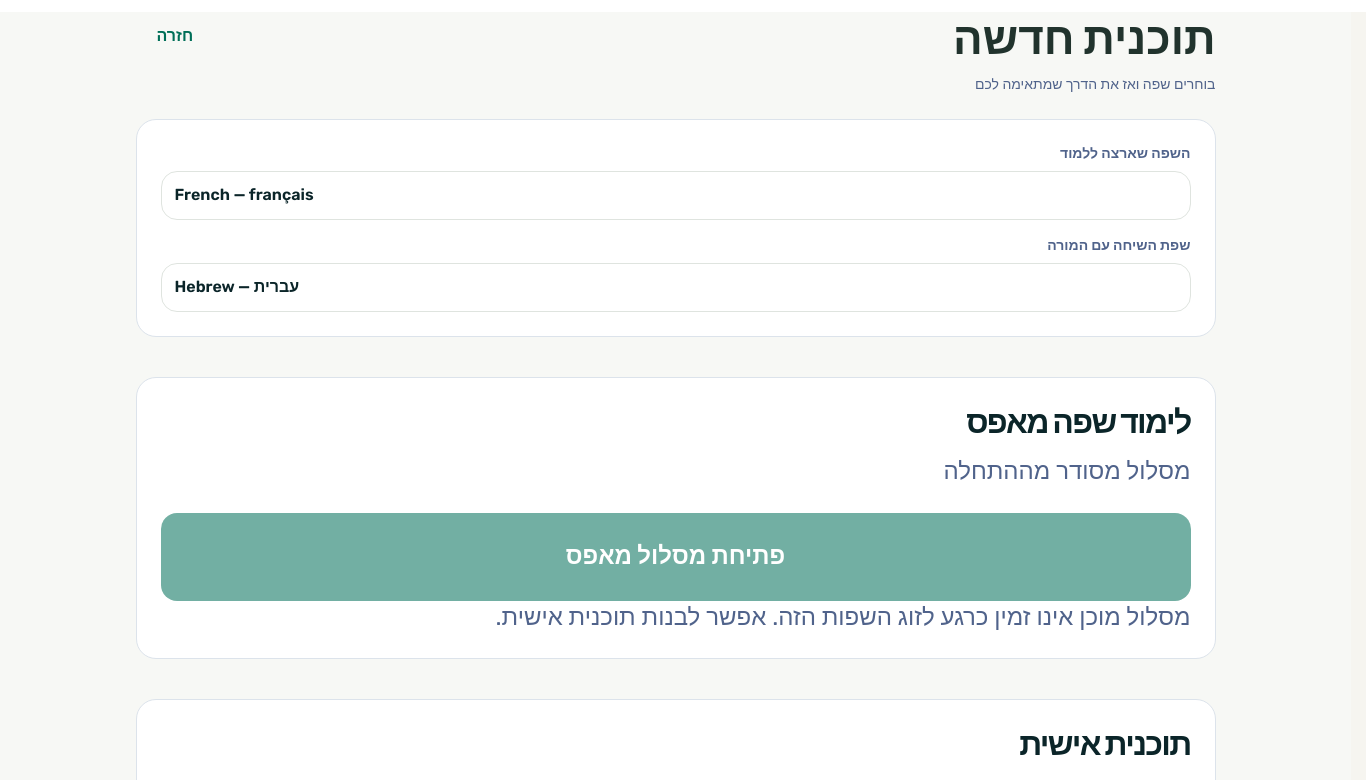
Test: program chooser DEV design=false › checks the newly selected pair instead of the saved profile pair
Expected: the text "מסלול מוכן אינו זמין כרגע לזוג השפות הזה. אפשר לבנות תוכנית אישית." is shown, [496,603,1190,631]
Focus the dropdown labelled "השפה שארצה ללמוד" at (676,195), box [160,171,1190,220]
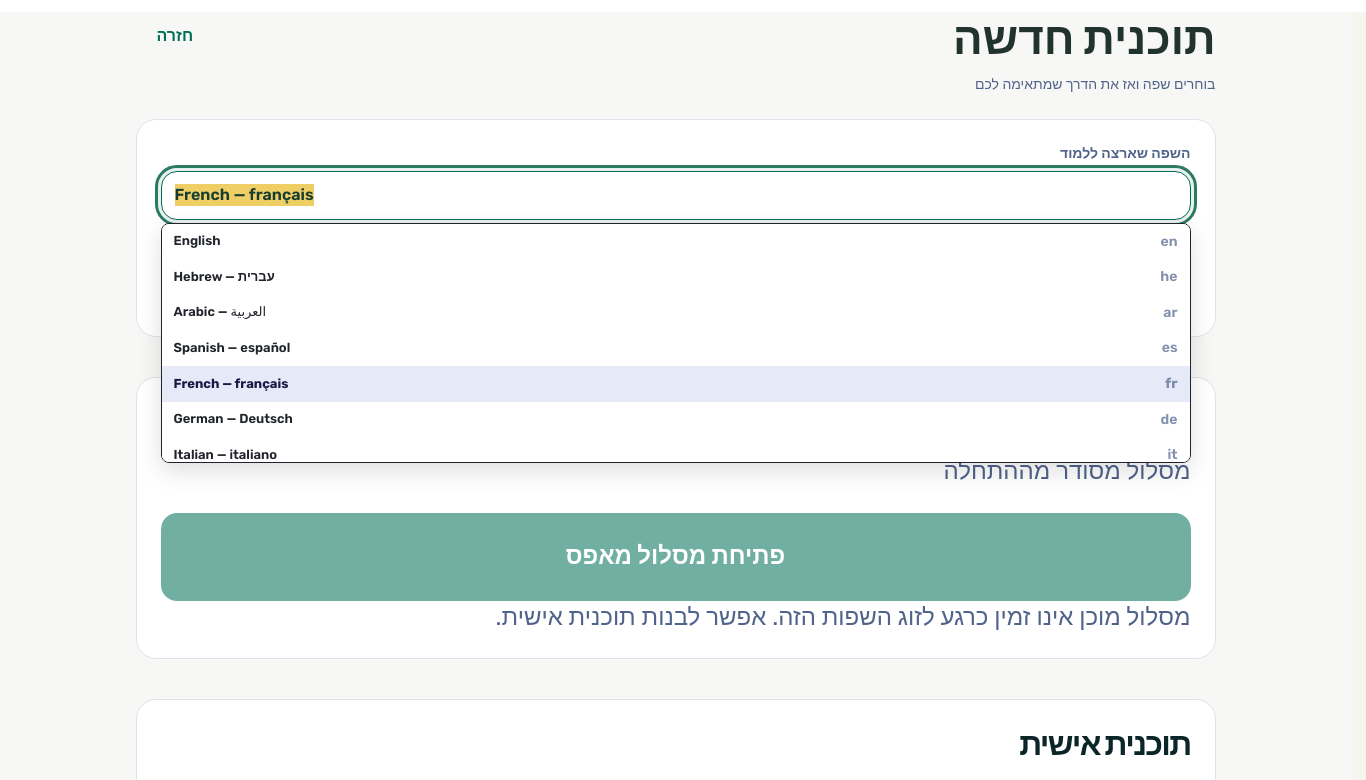
Click the option "English en" at (197,241), box [174,233,1178,250]
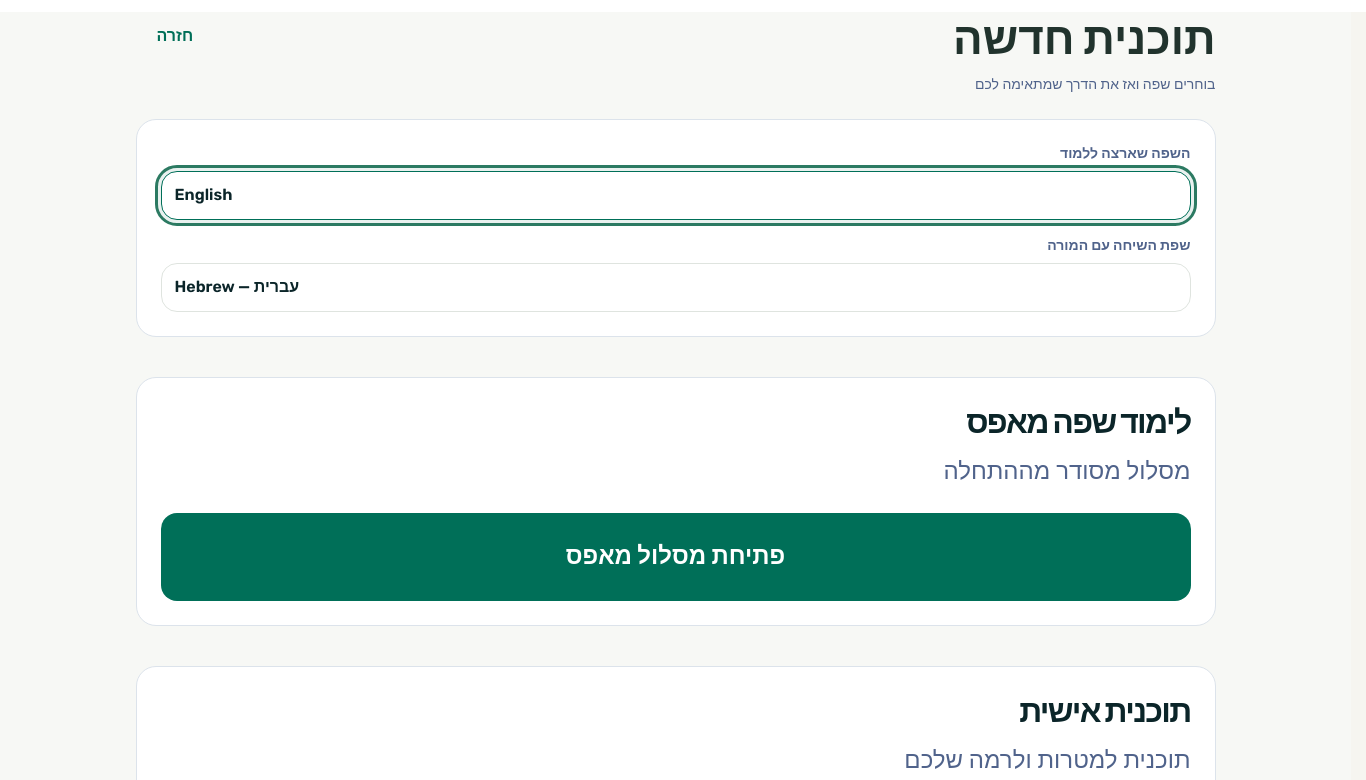
Expected: the button "פתיחת מסלול מאפס" is enabled, [160,513,1190,601]
Expected: the text "מסלול מוכן אינו זמין כרגע לזוג השפות הזה. אפשר לבנות תוכנית אישית." is gone
